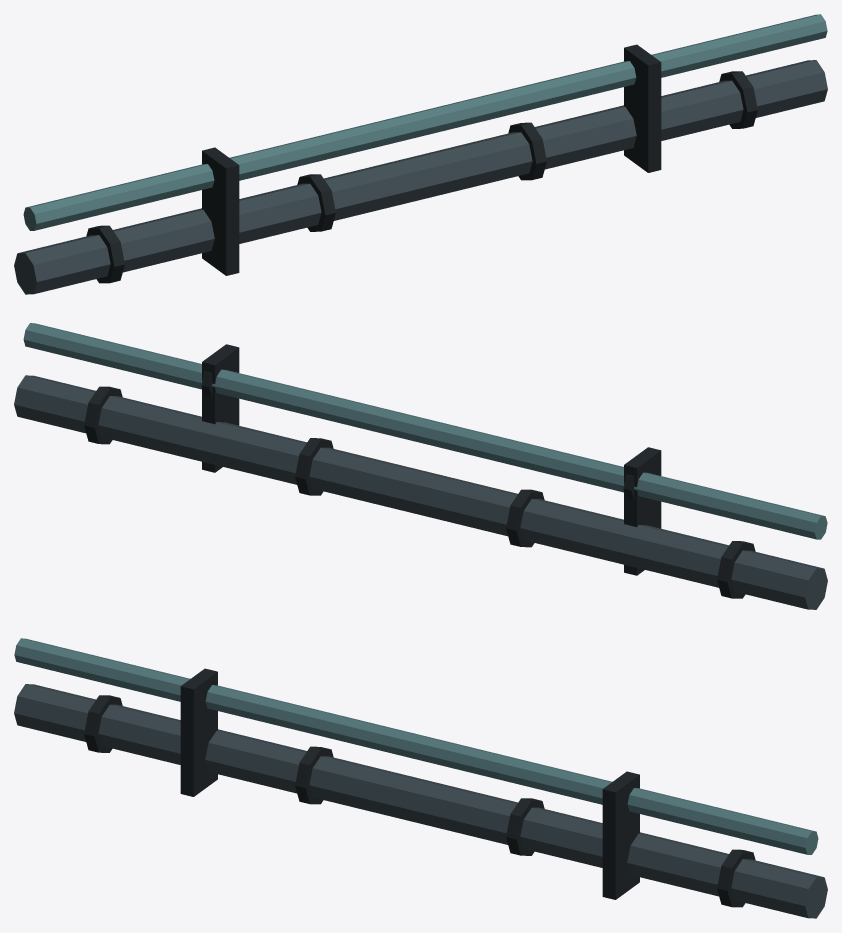
The model's file is Env_PipeRun.fbx.
3 renders of one model, top to bottom at view 1: azimuth 30°, elevation 25°; view 2: azimuth 150°, elevation 25°; view 3: azimuth 330°, elevation 25°, orthographic.
Visible parts, largest first — view 1: Env_PipeRun; view 2: Env_PipeRun; view 3: Env_PipeRun.
Part boxes in pixels (bbox=[...]): Env_PipeRun: bbox=[14, 14, 827, 294]; Env_PipeRun: bbox=[14, 323, 827, 609]; Env_PipeRun: bbox=[14, 638, 827, 918].
Bounding box in the file's own units: 6 × 0.5 × 0.78.
